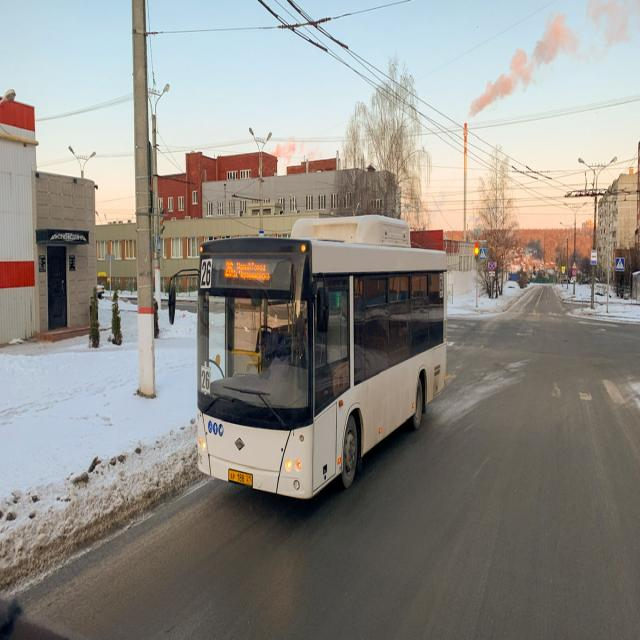number-of-bus: (199, 366, 215, 399), (202, 262, 215, 291)
